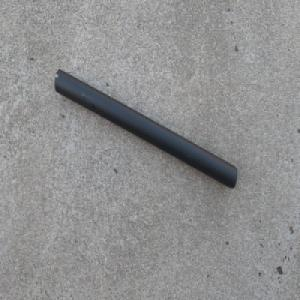LuggagePart: (53, 67, 238, 189)
